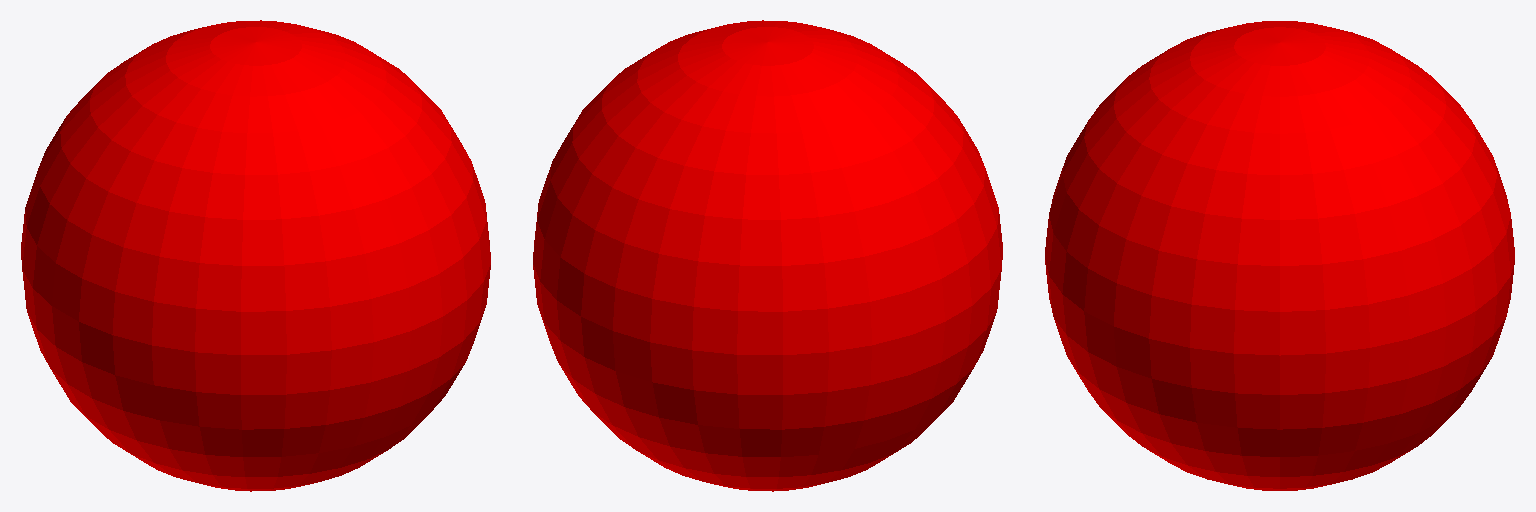
URDF robot description (ball):
<?xml version="1.0"?> 
<robot name="ball">
    <!-- Colors --> 
    <material name="red">
        <color rgba="1 0 0 1"/>
    </material>


    <!-- Base Link  of Car --> 
    <link name="base_link">
        <visual>
            <origin xyz="0 0 0" rpy="0 0 0"/>
            <geometry> 
                <sphere radius="0.1"/>
            </geometry>
            <material name="red"/>
        </visual>
        <inertial>
            <origin xyz="0 0 0" rpy="0 0 0"/>
            <mass value="1"/>
            <inertia ixx="1" ixy="0" ixz="0" iyy="1" iyz="0" izz="1"/>
        </inertial>

        <collision>
            <origin xyz="0 0 0" rpy="0 0 0"/>
            <geometry>
                <sphere radius="0.1"/>
            </geometry>
        </collision>
    </link> 
  
</robot>

--- What the picture shows (computed from the rendered views, not written in the file) ---
The picture shows the robot from 3 angles, left to right: view 1: azimuth 30°, elevation 25°; view 2: azimuth 150°, elevation 25°; view 3: azimuth 270°, elevation 25°; orthographic projection.
Model ball with 1 links and 0 joints (none), rooted at base_link, posed every joint at zero.
Visible links, largest first — view 1: base_link; view 2: base_link; view 3: base_link.
Boxes of the visible links, x1,y1,x2,y2 form: base_link: (21, 20, 490, 491); base_link: (533, 20, 1002, 491); base_link: (1045, 21, 1514, 490).
Size in the robot's own frame: 0.2 by 0.2 by 0.2 metres.
Geometry: primitives only (box / cylinder / sphere), no mesh files.